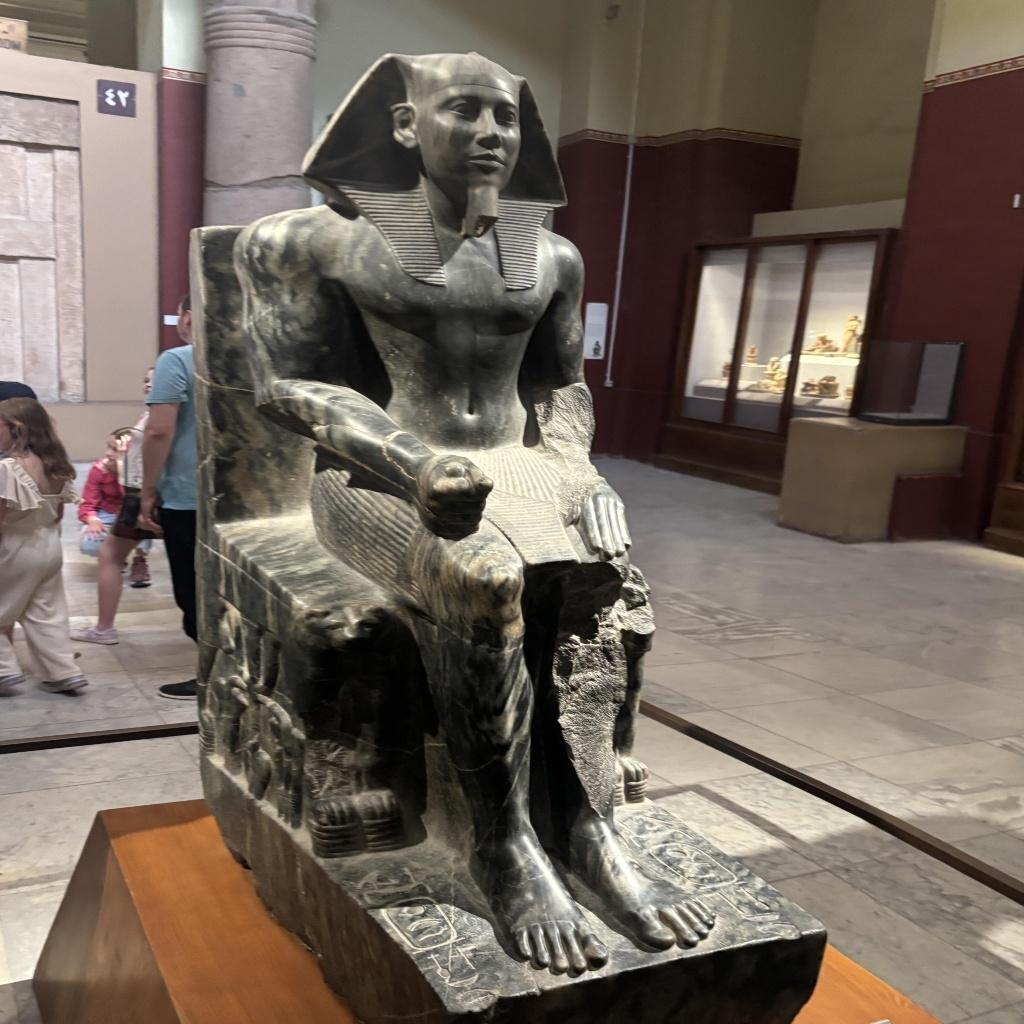Statue of Khafre: (228, 60, 728, 976)
